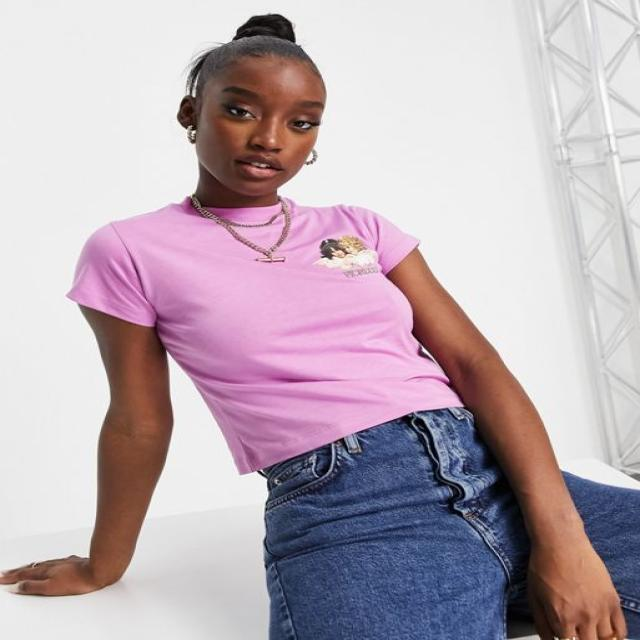tshirt: (65, 192, 468, 475)
